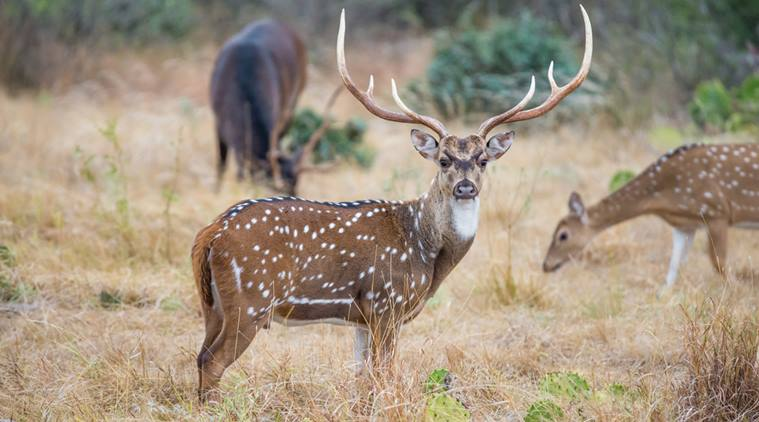Deer: (182, 1, 596, 398), (541, 142, 759, 278)
